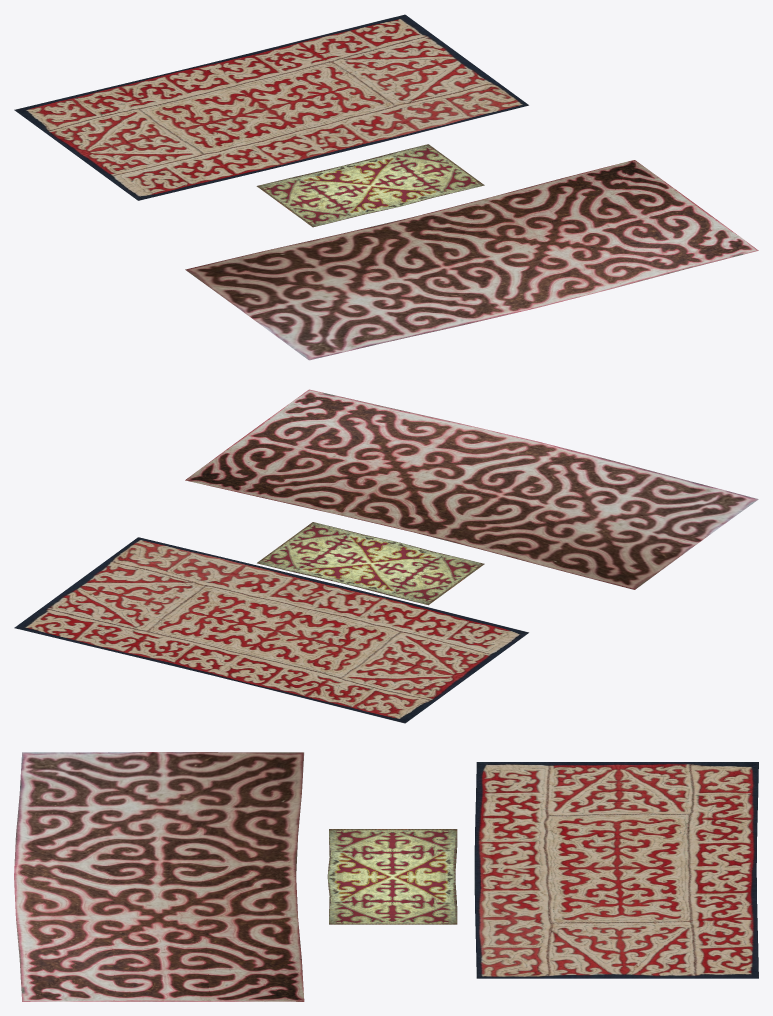
The model's file is KovrikiNew.fbx.
3 views of the same model, one above another, from view 1: azimuth 30°, elevation 25°; view 2: azimuth 150°, elevation 25°; view 3: azimuth 270°, elevation 25° (orthographic). The views are drawn at different scales.
Parts seen in each view (by area): view 1: Kover1, Kovrik.002, Korpeshka; view 2: Kover1, Kovrik.002, Korpeshka; view 3: Kover1, Kovrik.002, Korpeshka.
Part boxes in pixels (<box>): Kover1: <box>185,160,758,360</box>; Kovrik.002: <box>14,14,528,200</box>; Korpeshka: <box>256,144,484,227</box>; Kover1: <box>185,389,758,589</box>; Kovrik.002: <box>14,537,528,723</box>; Korpeshka: <box>257,522,484,605</box>; Kover1: <box>14,752,304,1001</box>; Kovrik.002: <box>474,762,758,978</box>; Korpeshka: <box>327,829,457,924</box>.
Size of the model in its own units: 230 by 2.91 by 290.
Materials: 3 (3 with a texture image).
